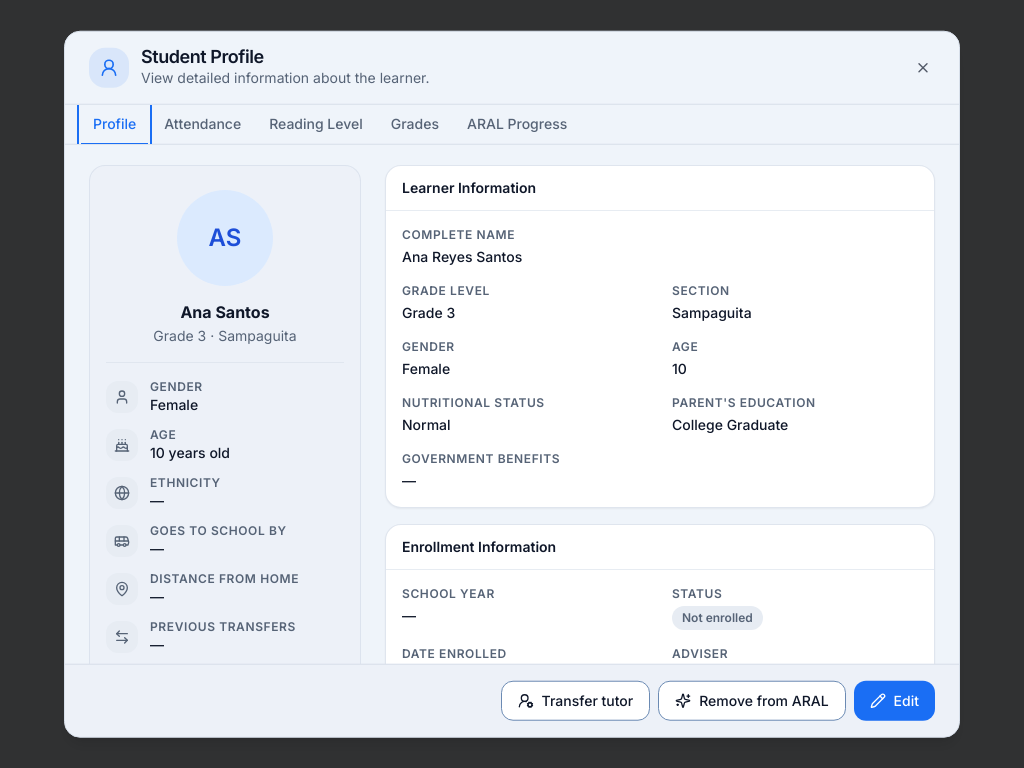
Scenario: LearnerProfileModal — footer actions › offers removal, destructively, for a learner already in ARAL
The image size is (1024, 768).
Click the button "Remove from ARAL" at [752, 700], box [658,680,846,720]
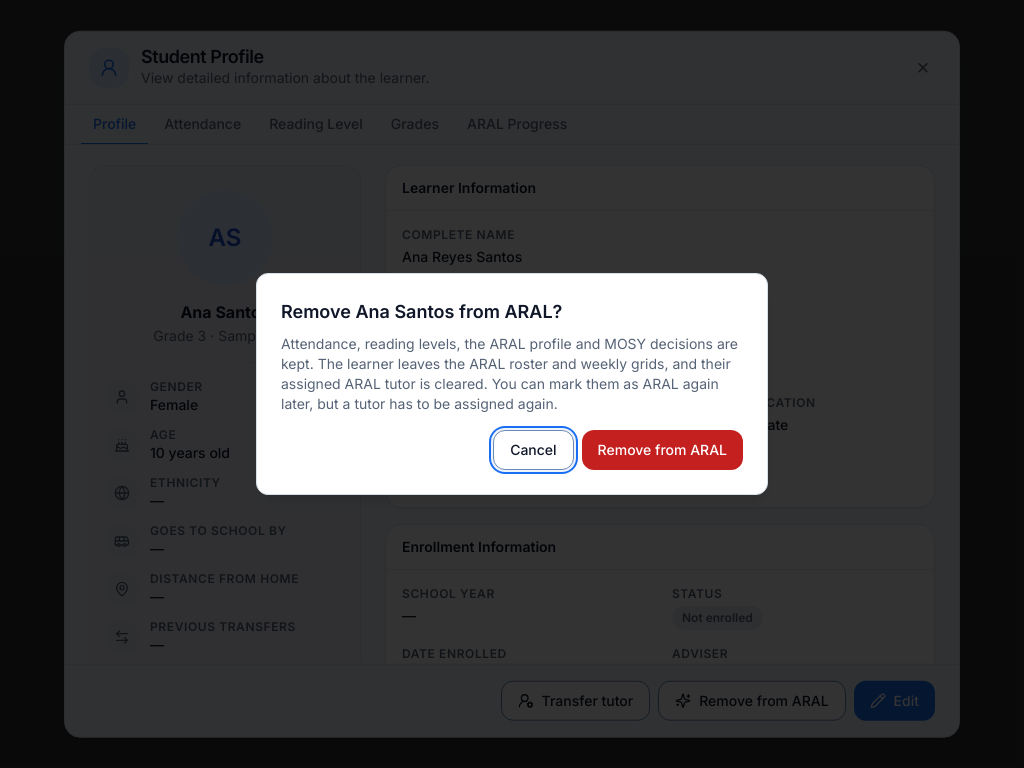
expect the heading "Remove Ana Santos from ARAL?" is shown: met, box [281,301,562,322]
expect the button "Remove from ARAL" is shown: met, box [582,430,743,470]
expect the button "Cancel" is shown: met, box [493,430,574,470]
